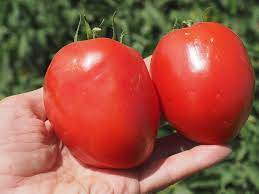tomato: (44, 33, 157, 164), (147, 21, 256, 155)
